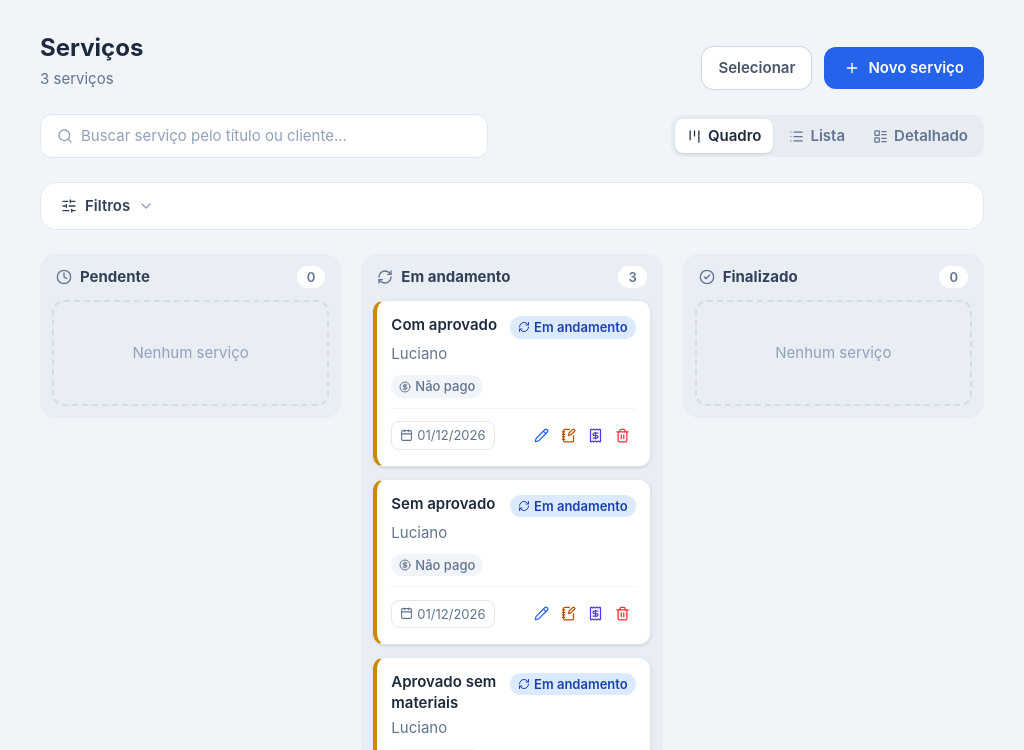
Test: excluir serviço com orçamento aprovado › pergunta e devolve o estoque quando escolhido, sem abrir a edição
Check: the text "Com aprovado" is shown, box left=391, top=315, right=502, bottom=336
Click the 1st button named "Excluir".
click(622, 435)  # box left=609, top=422, right=636, bottom=449
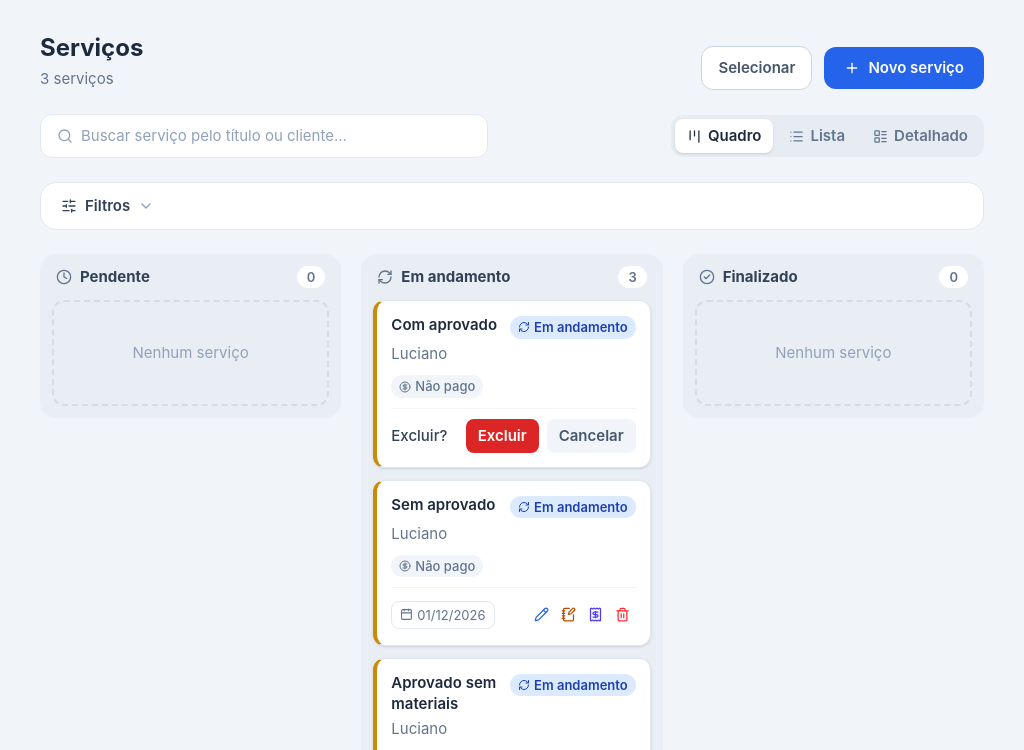
Click the button "Excluir".
click(502, 436)  # box left=466, top=419, right=539, bottom=453
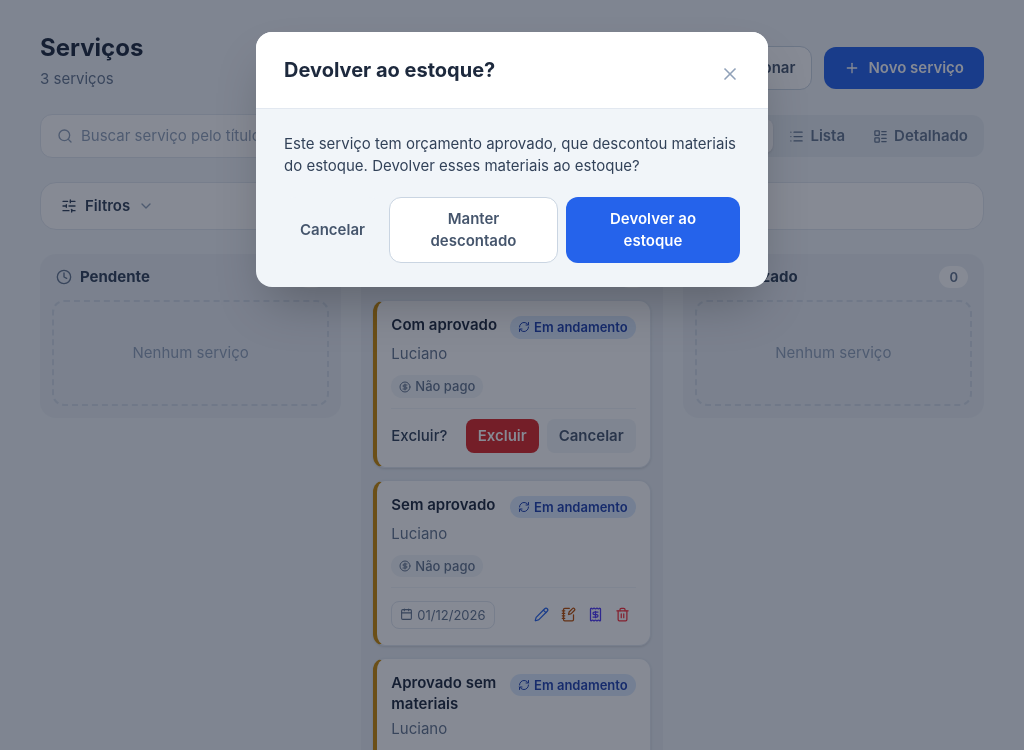
Click the button "Devolver ao estoque".
click(653, 230)  # box left=566, top=197, right=740, bottom=263
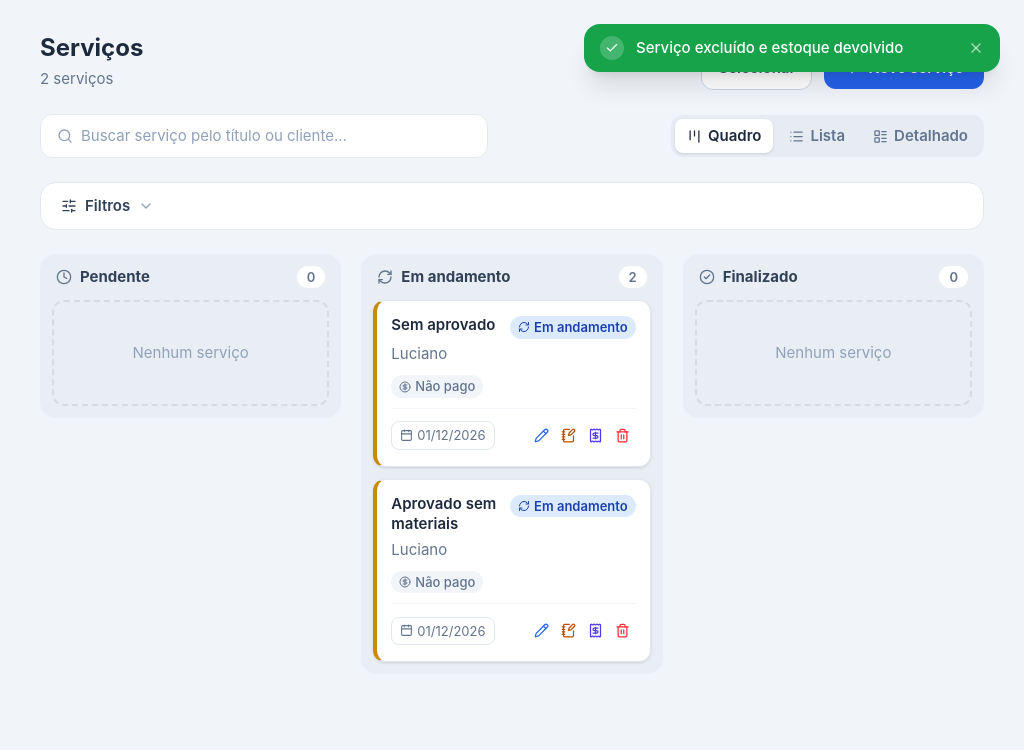
Check: the text "Serviço excluído e estoque devolvido" is shown, box left=636, top=38, right=903, bottom=57
